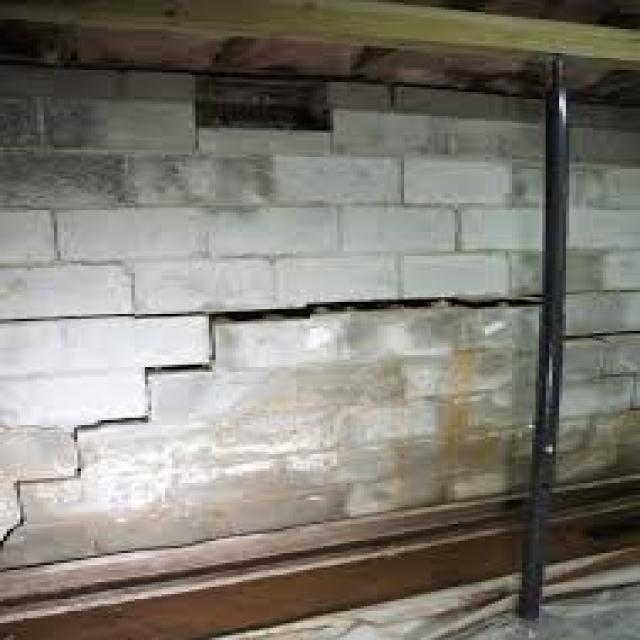Crack: (0, 285, 539, 553)
